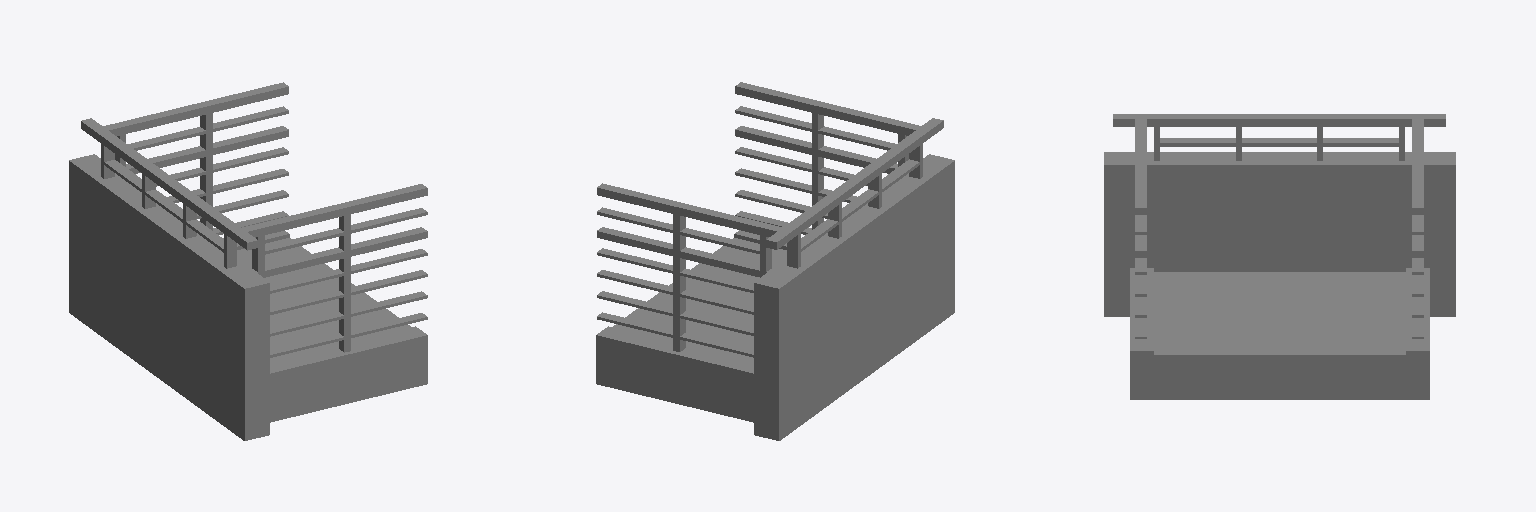
Rendered from Terrace_batton.obj.
3 renders of one model, left to right at view 1: azimuth 30°, elevation 25°; view 2: azimuth 150°, elevation 25°; view 3: azimuth 270°, elevation 25°, orthographic.
Parts seen in each view (by area): view 1: ???_??; view 2: ???_??; view 3: ???_??.
Boxes of the visible parts, x1,y1,x2,y2 form: ???_??: [69, 82, 427, 440]; ???_??: [596, 82, 954, 440]; ???_??: [1104, 114, 1455, 399].
Bounding box in the file's own units: 2.32 × 2.16 × 3.55.